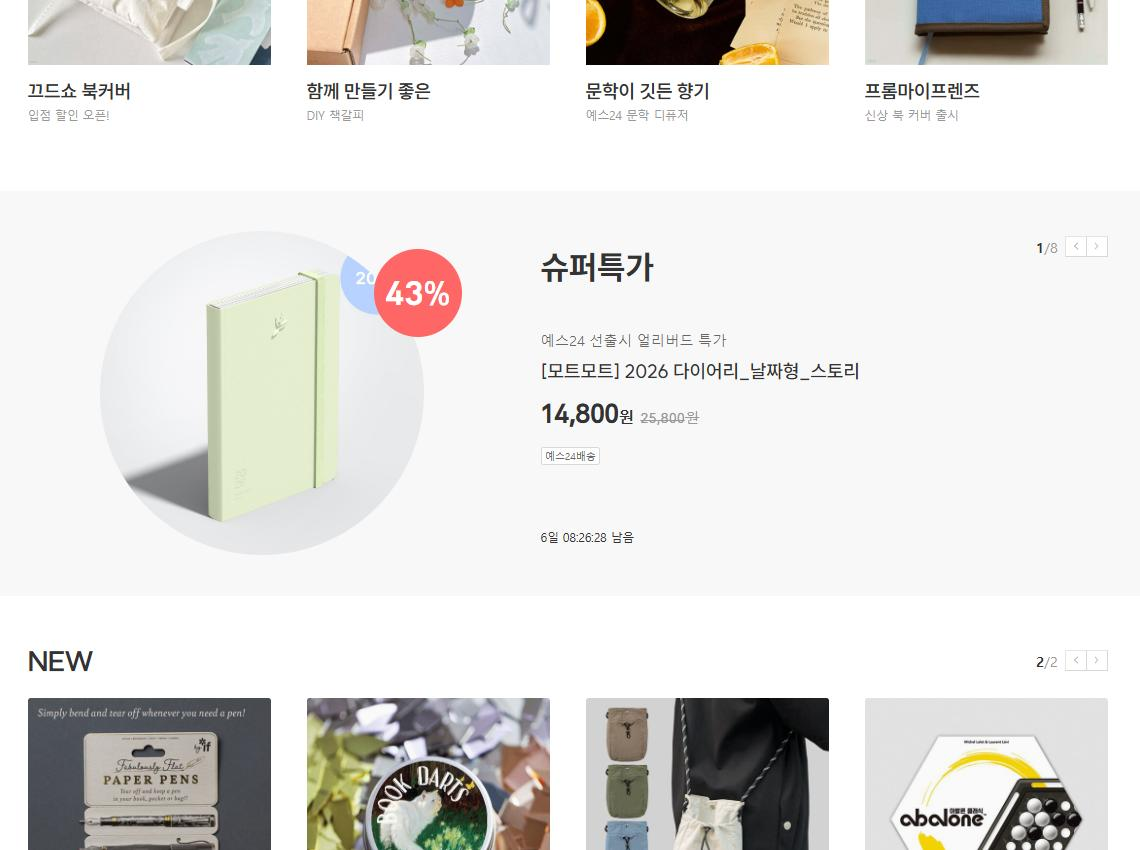button: (1068, 651, 1111, 674), (1066, 233, 1107, 256)
popup: (4, 188, 1140, 597)
